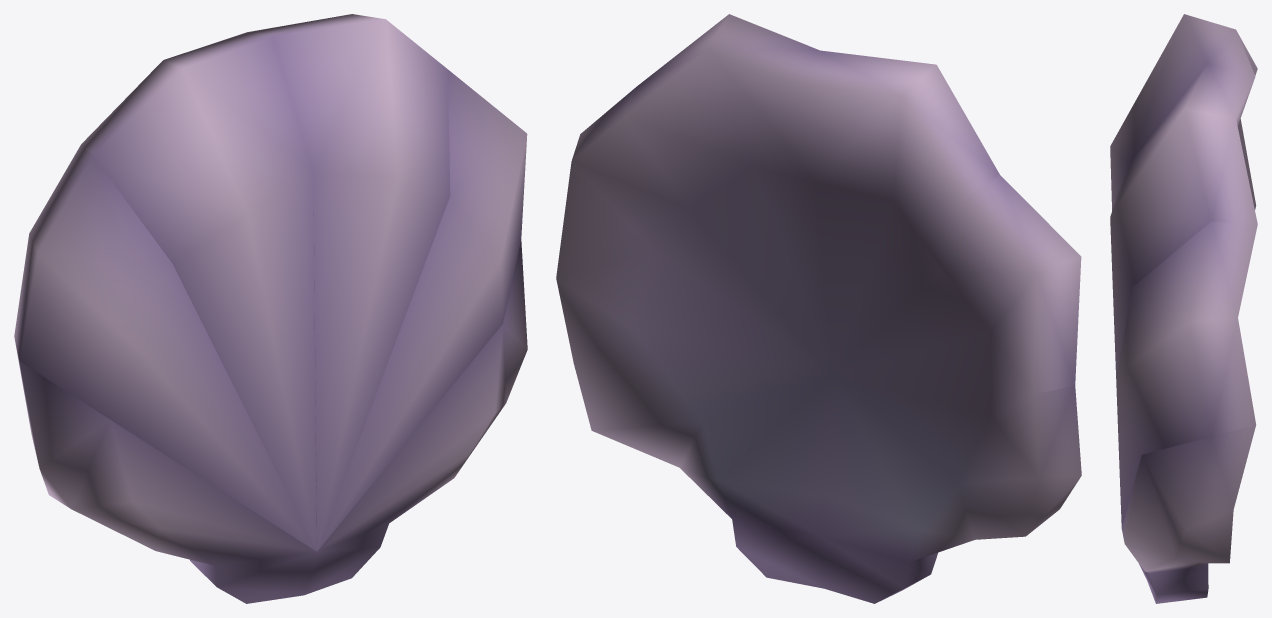
The model's file is Fbx_Seashell.fbx.
3 renders of one model, left to right at view 1: azimuth 30°, elevation 25°; view 2: azimuth 150°, elevation 25°; view 3: azimuth 270°, elevation 25°, orthographic. The views are drawn at different scales.
Parts seen in each view (by area): view 1: Circle; view 2: Circle; view 3: Circle.
Boxes of the visible parts, <box> form: Circle: <box>14,14,527,603</box>; Circle: <box>556,14,1081,603</box>; Circle: <box>1110,14,1257,603</box>.
Bounding box in the file's own units: 0.429 × 0.439 × 0.1134.
